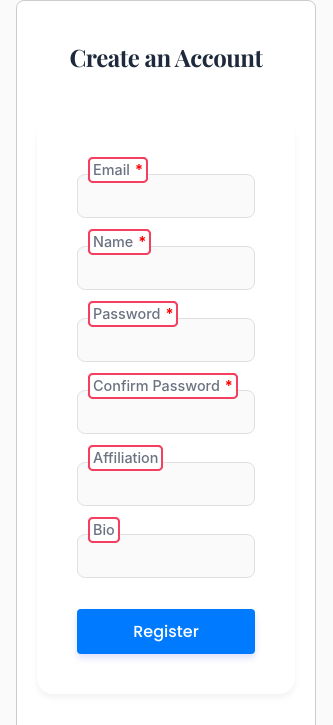
Test: Register Component › Form State Management › should handle password mismatch error state
Note: Fill out required fields
Type "test@example.com" into the 1st field named "email*" at (166, 196), box top-left (77, 174), bottom-right (255, 218)
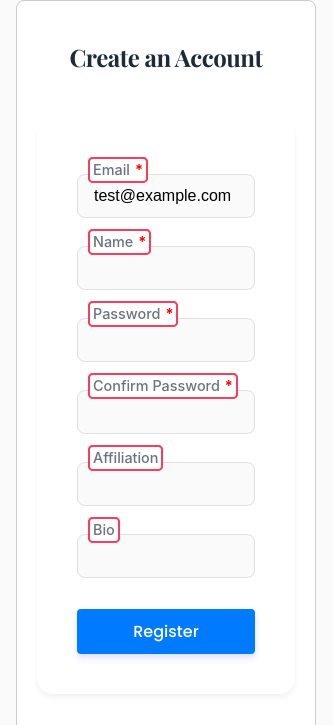
Type "Test User" into the 2nd field named "name*" at (166, 268), box top-left (77, 246), bottom-right (255, 290)
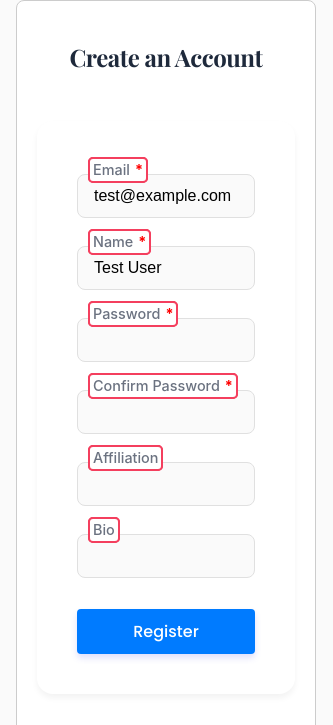
Note: Submit with mismatched passwords to trigger error
Type "password123" into the 1st password field named "password*" at (166, 340), box top-left (77, 318), bottom-right (255, 362)
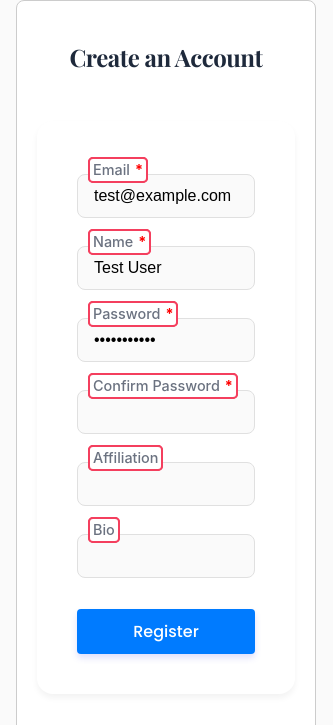
Type "password456" into the 2nd password field named "confirm password*" at (166, 412), box top-left (77, 390), bottom-right (255, 434)
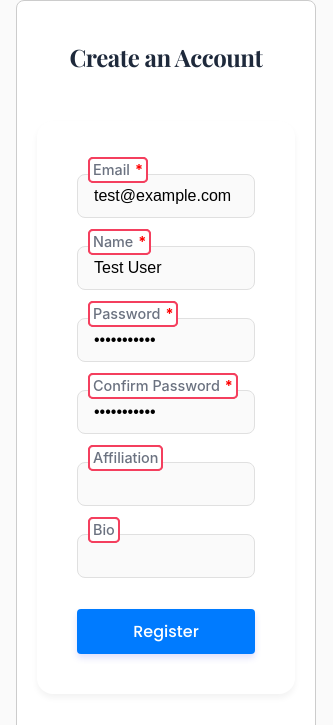
Click the button "Register" at (166, 631), box top-left (77, 609), bottom-right (255, 654)
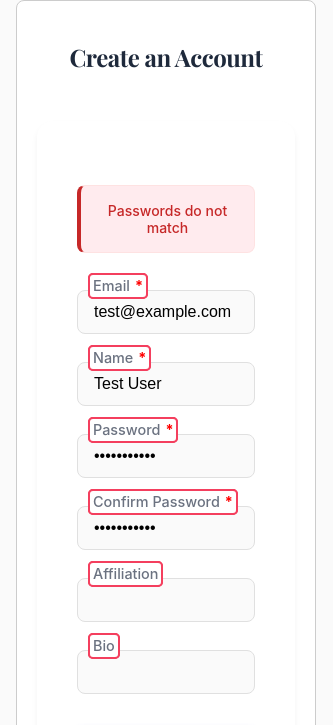
Now the text "Passwords do not match" is shown, box top-left (77, 185), bottom-right (255, 253)
Note: Fix the password mismatch
Type "password123" into the 2nd password field named "confirm password*" at (166, 528), box top-left (77, 506), bottom-right (255, 550)
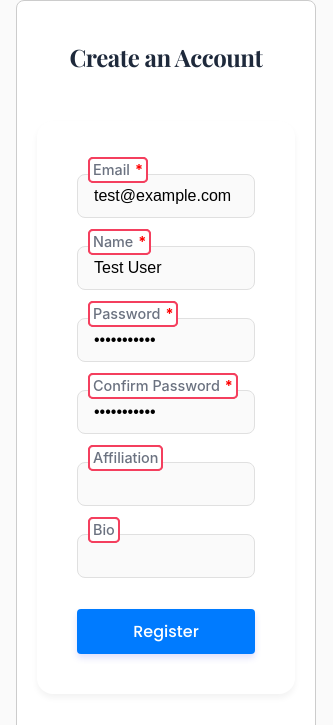
Now the text "Passwords do not match" is gone
